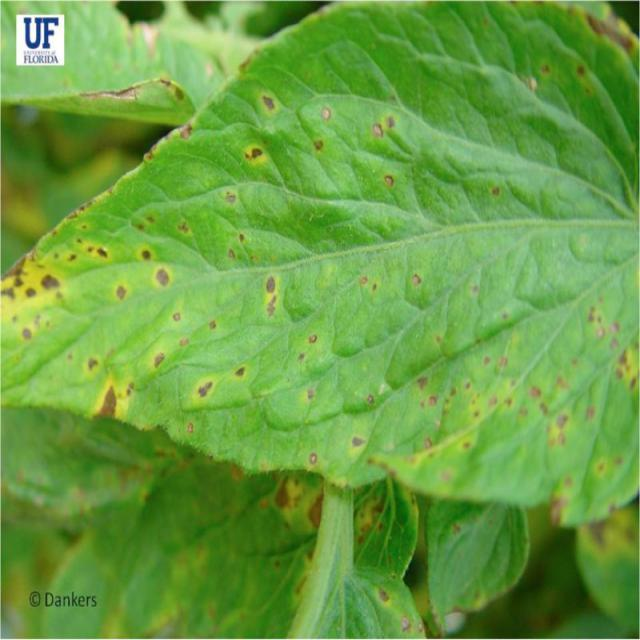Tomato leaf bacterial spot: (11, 24, 640, 540)
